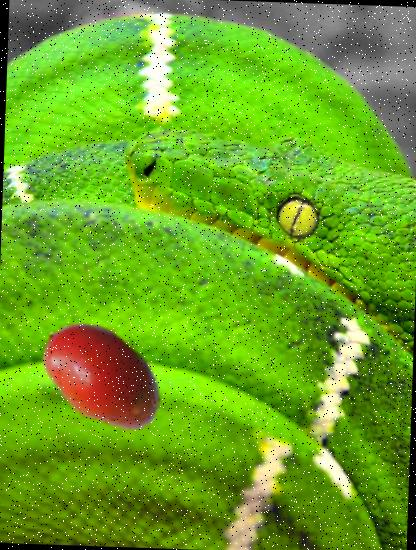Potato: (31, 308, 172, 449)
